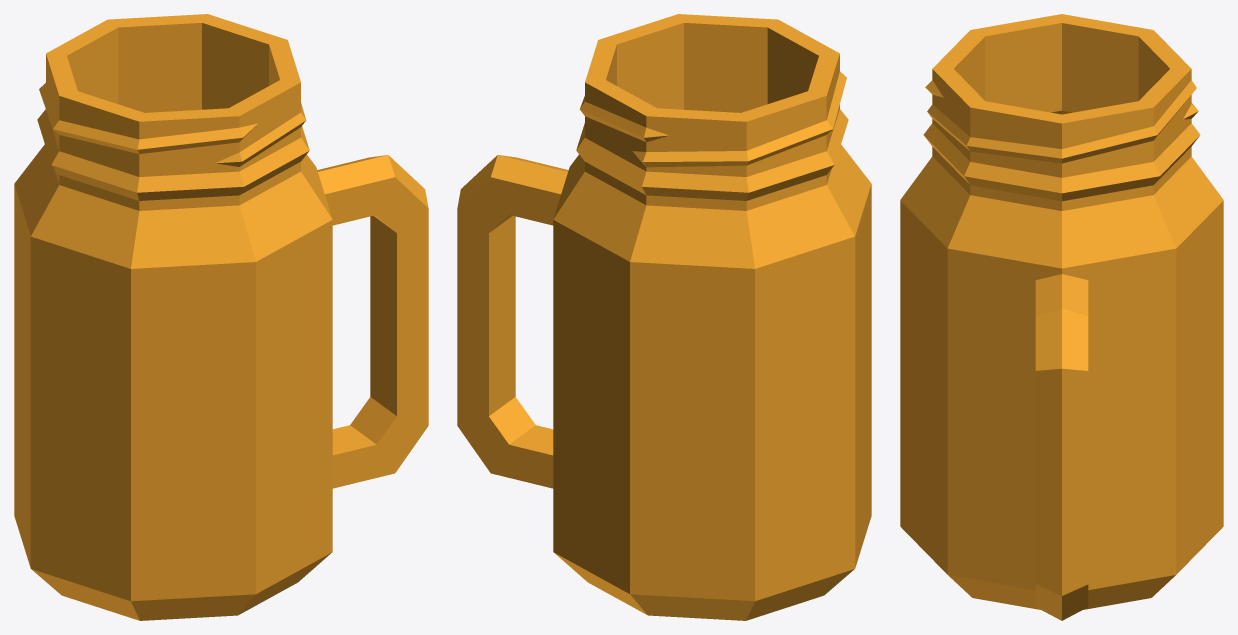
Rendered from SM_Mason_Jar_4july.fbx.
3 renders of one model, left to right at view 1: azimuth 30°, elevation 25°; view 2: azimuth 150°, elevation 25°; view 3: azimuth 270°, elevation 25°, orthographic.
Parts seen in each view (by area): view 1: mason-jar-4july; view 2: mason-jar-4july; view 3: mason-jar-4july.
Boxes of the visible parts, x1,y1,x2,y2 form: mason-jar-4july: (14, 14, 428, 620); mason-jar-4july: (457, 14, 871, 620); mason-jar-4july: (900, 14, 1223, 620).
Size of the model in its own units: 0.1614 by 0.1958 by 0.1169.
